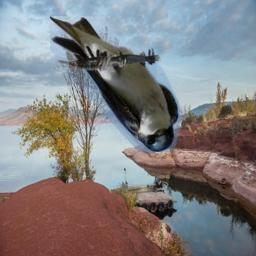Swallow: (50, 16, 180, 152)
